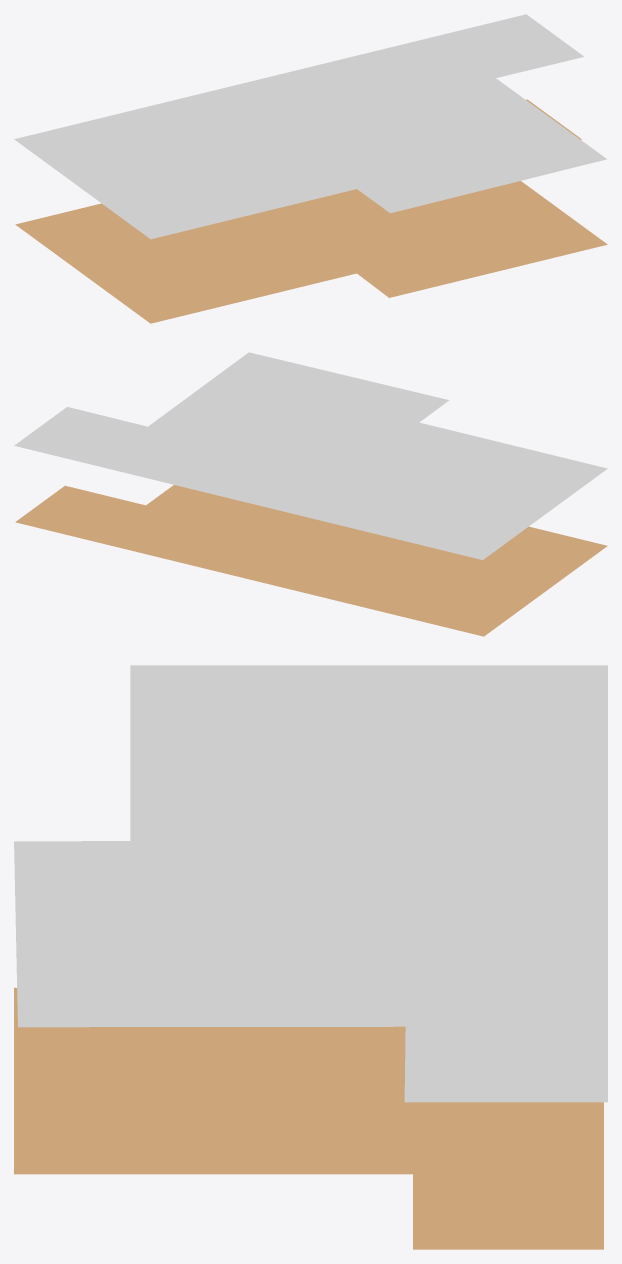
Rendered from bunker ceiling and floor.fbx.
3 views of the same model, one above another, from view 1: azimuth 30°, elevation 25°; view 2: azimuth 150°, elevation 25°; view 3: azimuth 270°, elevation 25° (orthographic). The views are drawn at different scales.
Visible parts, largest first — view 1: floor.001, floor; view 2: floor.001, floor; view 3: floor.001, floor.
Boxes of the visible parts, x1=… form: floor.001: x1=14, y1=14, x2=606, y2=239; floor: x1=15, y1=99, x2=607, y2=323; floor.001: x1=14, y1=352, x2=607, y2=559; floor: x1=15, y1=485, x2=607, y2=636; floor.001: x1=14, y1=665, x2=607, y2=1102; floor: x1=14, y1=987, x2=603, y2=1249.
Size of the model in its own units: 1495 by 235 by 859.
